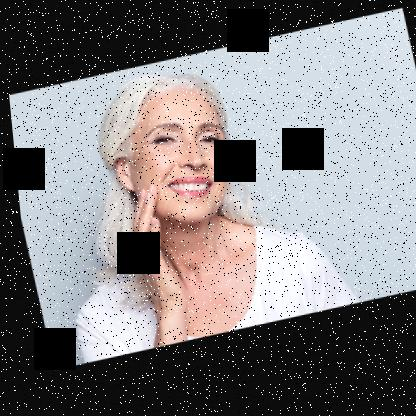Female: (98, 83, 236, 239)
